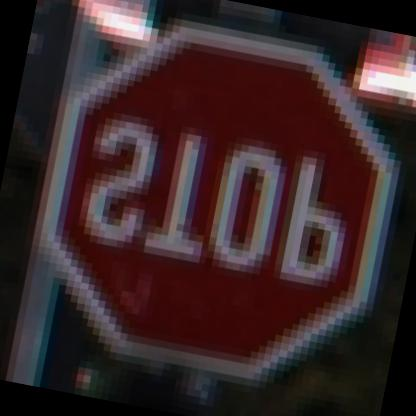stop: (13, 0, 415, 410)
